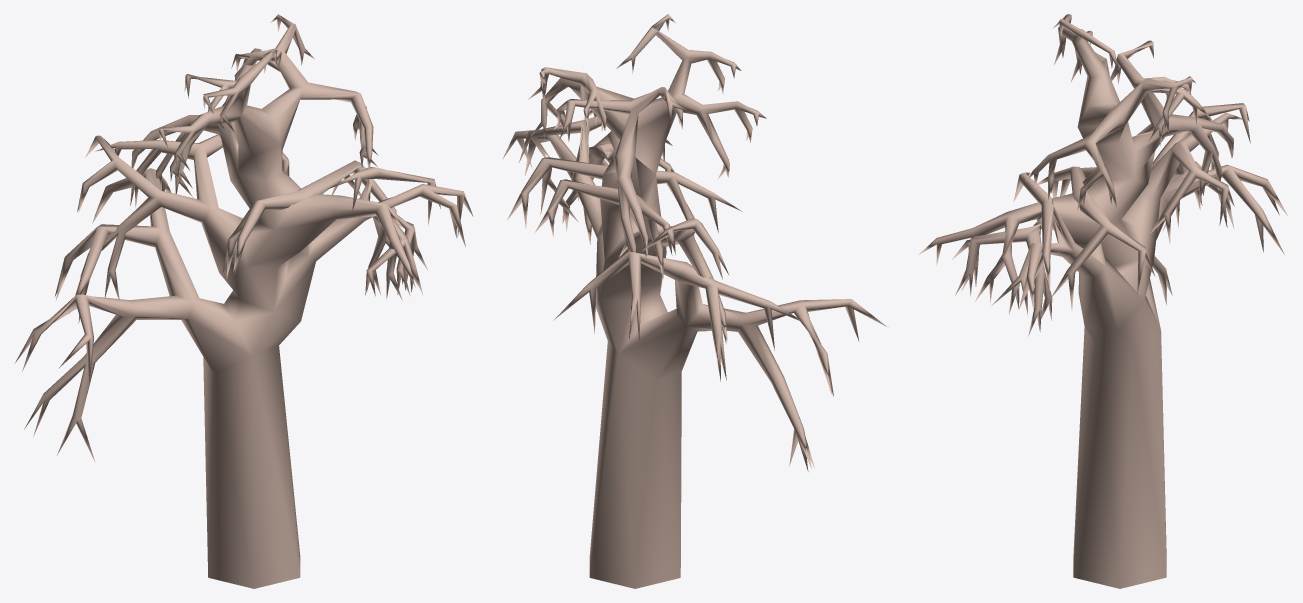
Rendered from tree.glb.
3 renders of one model, left to right at view 1: azimuth 30°, elevation 25°; view 2: azimuth 150°, elevation 25°; view 3: azimuth 270°, elevation 25°, orthographic. The views are drawn at different scales.
Size of what is drawn, in the model's own units: 5.21 by 6.65 by 4.1.
